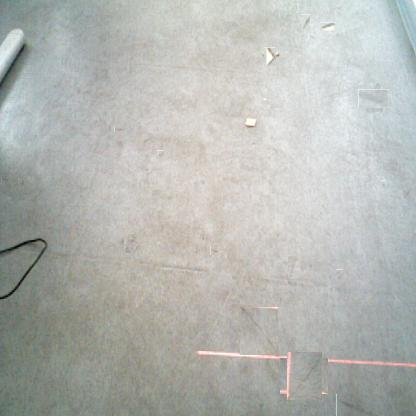dirty: (263, 49, 278, 64), (320, 22, 336, 31), (244, 117, 258, 127)
mark: (240, 307, 278, 355), (283, 355, 325, 397), (336, 394, 379, 416), (361, 86, 386, 111), (285, 258, 303, 276), (122, 235, 138, 252), (300, 14, 310, 29), (141, 133, 153, 143), (210, 245, 219, 255), (17, 178, 27, 187), (335, 269, 343, 280), (116, 138, 124, 148), (310, 32, 318, 41), (199, 230, 205, 242), (156, 150, 164, 159), (114, 126, 125, 132), (1, 175, 9, 183), (380, 180, 386, 189), (251, 138, 258, 145), (200, 179, 206, 187), (336, 6, 342, 12)
